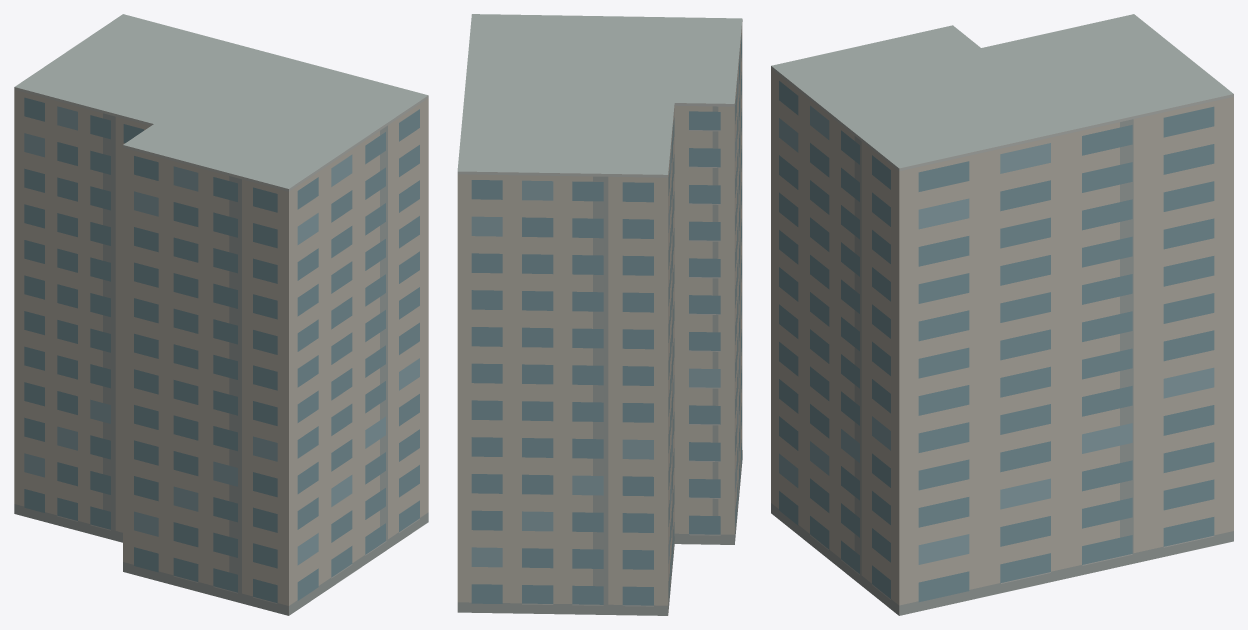
File: residential-310836ce-5a5e-4b55-acf8-c7379ccaefd0.glb
3 renders of one model, left to right at view 1: azimuth 30°, elevation 25°; view 2: azimuth 150°, elevation 25°; view 3: azimuth 270°, elevation 25°, orthographic. The views are drawn at different scales.
Visible parts, largest first — view 1: residential-310836ce-5a5e-4b55-acf8-c7379ccaefd0.tmp; view 2: residential-310836ce-5a5e-4b55-acf8-c7379ccaefd0.tmp; view 3: residential-310836ce-5a5e-4b55-acf8-c7379ccaefd0.tmp.
Part boxes in pixels (<box>): residential-310836ce-5a5e-4b55-acf8-c7379ccaefd0.tmp: <box>14,14,428,615</box>; residential-310836ce-5a5e-4b55-acf8-c7379ccaefd0.tmp: <box>457,14,742,615</box>; residential-310836ce-5a5e-4b55-acf8-c7379ccaefd0.tmp: <box>771,14,1233,615</box>.
Size of the model in its own units: 28.15 by 38 by 35.63.
